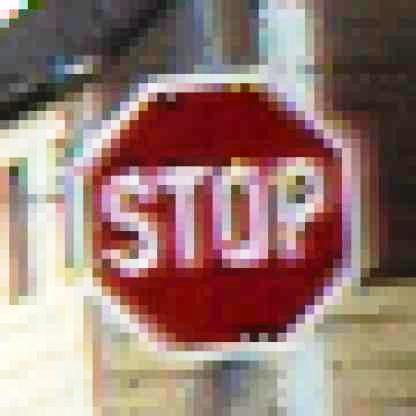Stop Sign: (68, 75, 367, 358)
